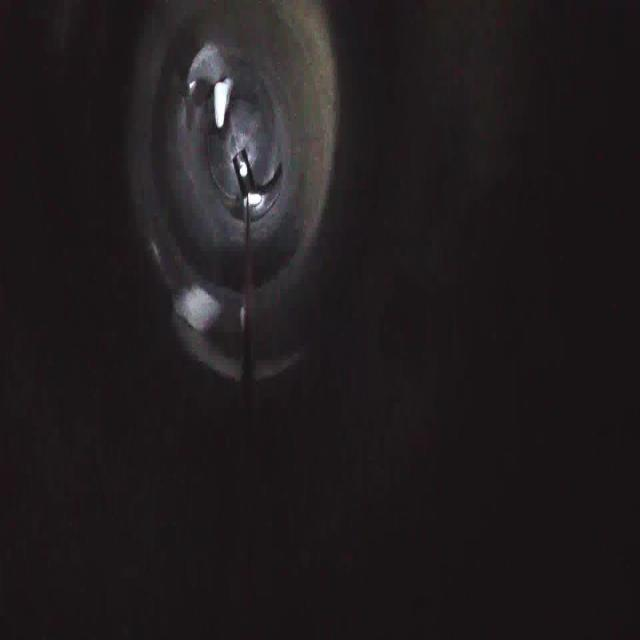impurity: (208, 71, 236, 133)
